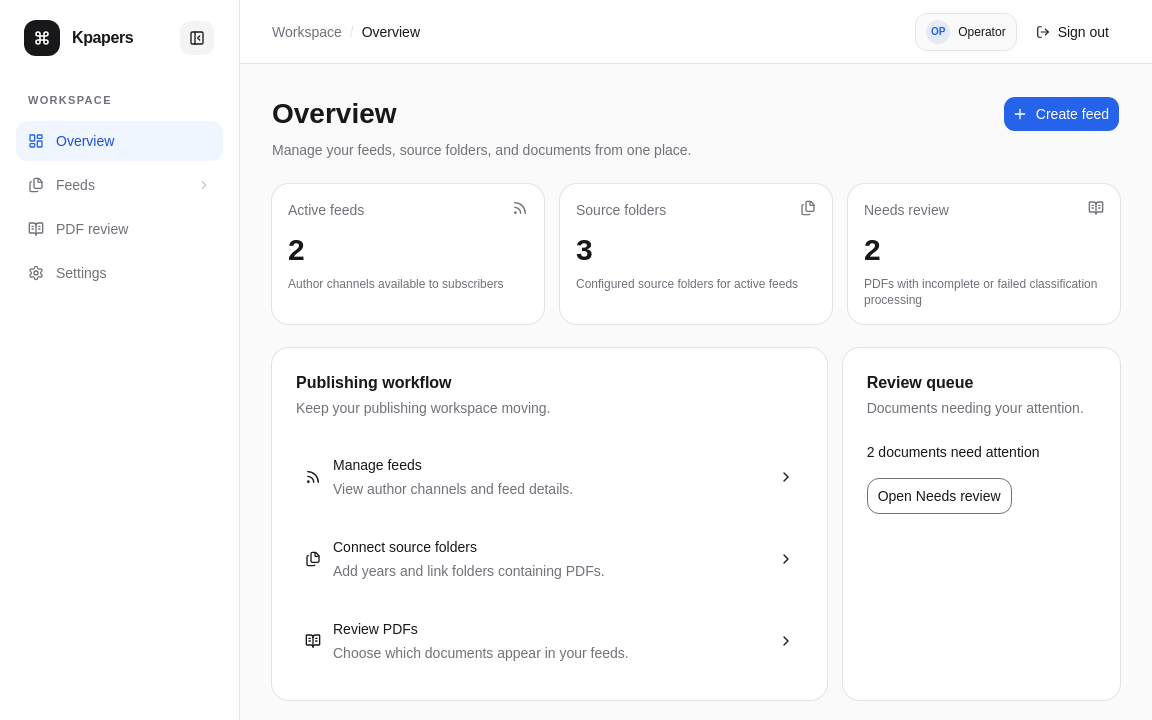
Scenario: operator session and dashboard shell › opens the active Needs review queue from Overview when attention is needed
Click the button "Open Needs review".
click(939, 496)  # box [867, 478, 1012, 514]
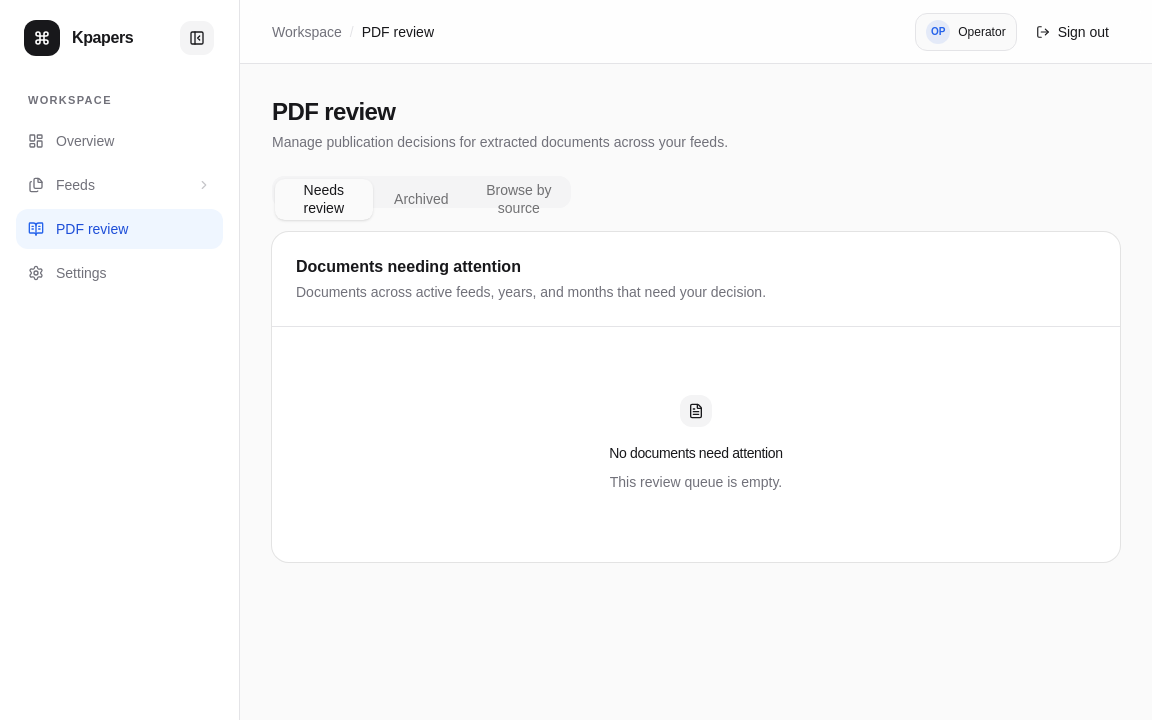
expect the heading "Documents needing attention" is shown: met, box [296, 258, 521, 275]
